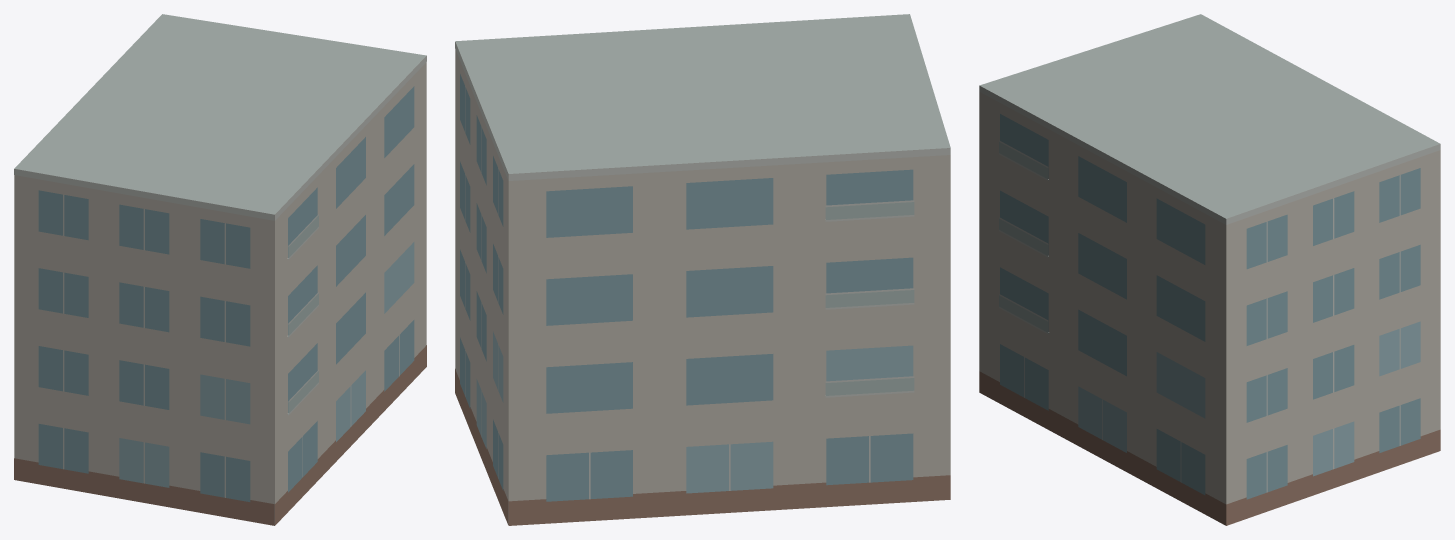
Rendered from survey-upis-33022464.glb.
3 views of the same model, side by side, from view 1: azimuth 30°, elevation 25°; view 2: azimuth 150°, elevation 25°; view 3: azimuth 270°, elevation 25° (orthographic). The views are drawn at different scales.
Visible parts, largest first — view 1: survey-upis-33022464.tmp; view 2: survey-upis-33022464.tmp; view 3: survey-upis-33022464.tmp.
Part boxes in pixels (x1,y1,x2,y2): survey-upis-33022464.tmp: (14,14,426,525); survey-upis-33022464.tmp: (455,14,950,525); survey-upis-33022464.tmp: (979,14,1440,525).
Size of the model in its own units: 17.47 by 12.2 by 16.62.
